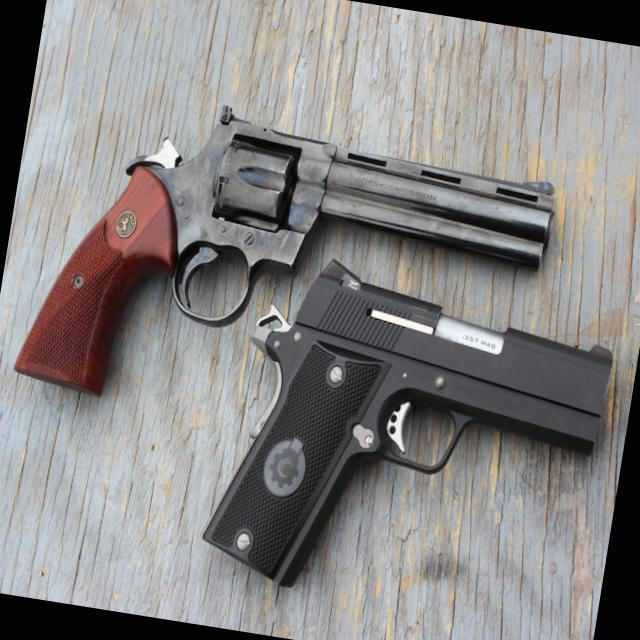handgun: (7, 76, 570, 461), (183, 242, 624, 620)
